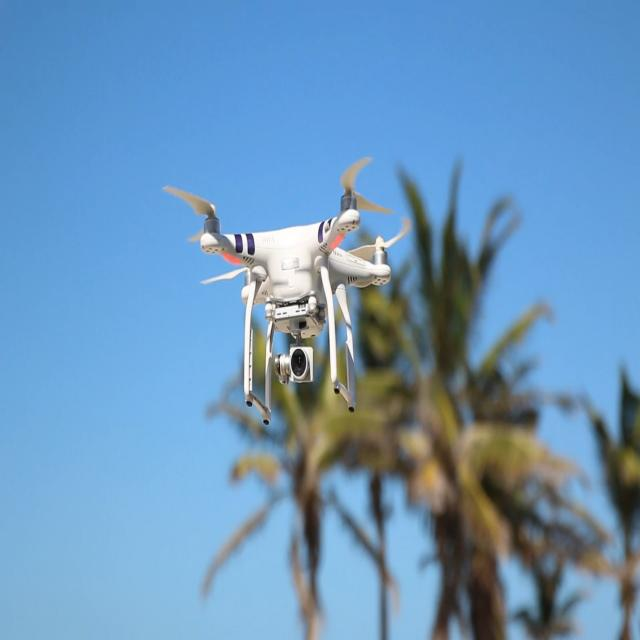Drone: (147, 185, 417, 430)
